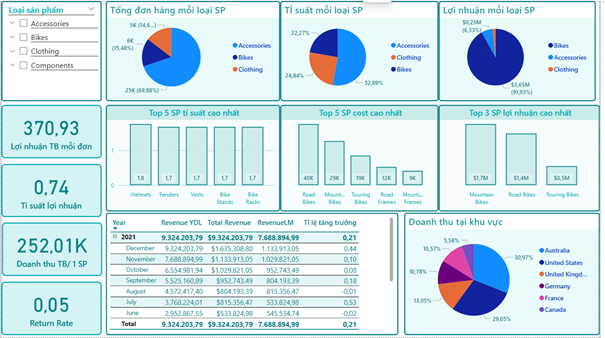

The dashboard page shown, as its layout file describes it:
{"tool":"powerbi","page":{"name":"Page 3","canvas":[1280,720],"ordinal":2},"visuals":[{"type":"pieChart","title":"Doanh thu tại khu vực","fields":{"Y":["sales.Total Revenue"],"Category":["territories.country"]},"box":[861.4,452.8,418.4,261.4],"z":0},{"type":"pieChart","title":"TỈ suất mỗi loại SP","fields":{"Category":["product_categories.category_name"],"Y":["sales.Tỉ suất lợi nhuận"]},"box":[596.3,0,338.7,214.7],"z":1000},{"type":"pieChart","title":"Tổng đơn hàng mỗi loại SP","fields":{"Category":["product_categories.category_name"],"Y":["customers.Total Items Purchased","customers.Total Items Purchased"]},"box":[223.3,0,373,214.7],"z":2000},{"type":"lineClusteredColumnComboChart","title":"Top 5 SP cost cao nhất","fields":{"Category":["product_subcategories.subcategory_name"],"Y":["Sum(products.product_cost)"]},"box":[596.3,222.1,338.7,228.2],"z":3000},{"type":"pieChart","title":"Lợi nhuận mỗi loại SP","fields":{"Category":["product_categories.category_name"],"Y":["sales.Total Profit"]},"box":[935,0,336.2,214.7],"z":4000},{"type":"lineClusteredColumnComboChart","title":"Top 5 SP tỉ suất cao nhất","fields":{"Category":["product_subcategories.subcategory_name"],"Y":["sales.Tỉ suất lợi nhuận"]},"box":[223.3,222.1,373,228.2],"z":5000},{"type":"slicer","fields":{"Values":["product_categories.category_name","product_subcategories.subcategory_name","products.product_name"]},"box":[0,0,214.7,214.7],"z":6000},{"type":"card","fields":{"Values":["sales.Avg Revenue per Model"]},"box":[1.2,473.9,214.7,114.1],"z":7000},{"type":"card","fields":{"Values":["sales.Tỉ suất lợi nhuận"]},"box":[0,348.1,214.6,113.9],"z":8000},{"type":"card","fields":{"Values":["sales.Avg Profit per Order"]},"box":[0,222.1,214.7,114.1],"z":9000},{"type":"card","fields":{"Values":["returns.Return Rate"]},"box":[0,600,214.7,114.1],"z":10000},{"type":"pivotTable","fields":{"Rows":["Calendarr.Date.Variation.Date Hierarchy.Year","Calendarr.Date.Variation.Date Hierarchy.Month"],"Values":["sales.Revenue YDL","sales.Total Revenue","sales.RevenueLM","sales.Tỉ lệ tăng trưởng"]},"box":[223.3,452.8,625.8,261.4],"z":11000},{"type":"lineClusteredColumnComboChart","title":"Top 3 SP lợi nhuận cao nhất","fields":{"Category":["product_subcategories.subcategory_name"],"Y":["sales.Total Profit"]},"box":[935,222.1,344.8,228.2],"z":12000}]}

Visuals, with their boxes in screenshot pixels (x1, y1, x2, y2), scaled from the page's 1280x720 canvas onto the 605x338 screenshot:
"Doanh thu tại khu vực" pieChart: crop(407, 213, 604, 335)
"TỈ suất mỗi loại SP" pieChart: crop(282, 0, 442, 101)
"Tổng đơn hàng mỗi loại SP" pieChart: crop(106, 0, 282, 101)
"Top 5 SP cost cao nhất" lineClusteredColumnComboChart: crop(282, 104, 442, 211)
"Lợi nhuận mỗi loại SP" pieChart: crop(442, 0, 601, 101)
"Top 5 SP tỉ suất cao nhất" lineClusteredColumnComboChart: crop(106, 104, 282, 211)
slicer - product_categories.category_name x product_subcategories.subcategory_name: crop(0, 0, 101, 101)
card - sales.Avg Revenue per Model: crop(1, 222, 102, 276)
card - sales.Tỉ suất lợi nhuận: crop(0, 163, 101, 217)
card - sales.Avg Profit per Order: crop(0, 104, 101, 158)
card - returns.Return Rate: crop(0, 282, 101, 335)
pivotTable - Calendarr.Date.Variation.Date Hierarchy.Year x Calendarr.Date.Variation.Date Hierarchy.Month: crop(106, 213, 401, 335)
"Top 3 SP lợi nhuận cao nhất" lineClusteredColumnComboChart: crop(442, 104, 604, 211)
